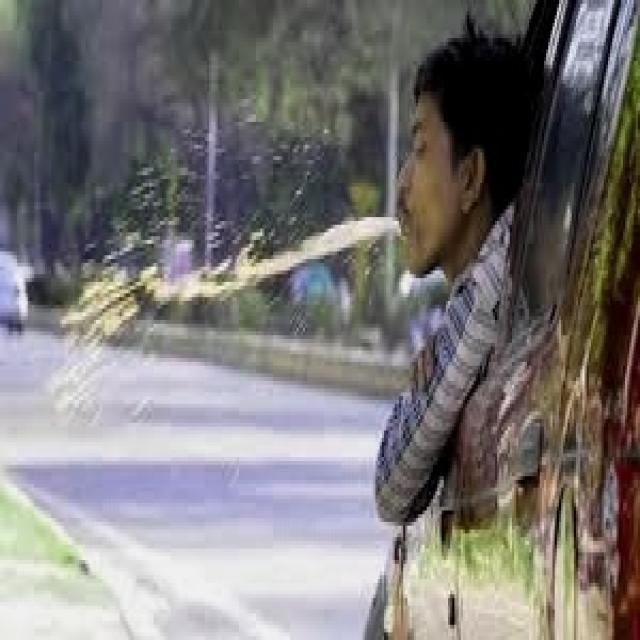Spitting: (333, 24, 526, 386)
